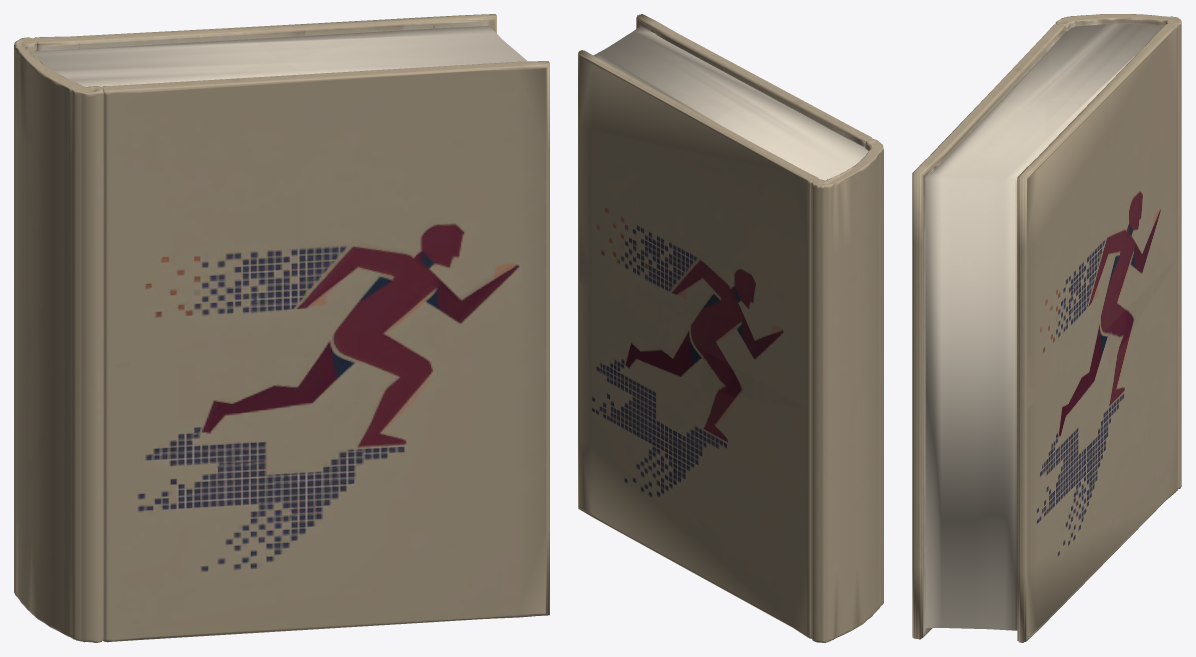
File: the-making-of-prince-of-persia.glb
3 renders of one model, left to right at view 1: azimuth 30°, elevation 25°; view 2: azimuth 150°, elevation 25°; view 3: azimuth 270°, elevation 25°, orthographic. The views are drawn at different scales.
Parts seen in each view (by area): view 1: The Making of Prince of Persia; view 2: The Making of Prince of Persia; view 3: The Making of Prince of Persia.
Boxes of the visible parts, box(x1,y1,x2,y2) form: The Making of Prince of Persia: box(14, 14, 549, 642); The Making of Prince of Persia: box(578, 14, 883, 642); The Making of Prince of Persia: box(912, 14, 1181, 642).
Bounding box in the file's own units: 0.7559 × 0.9941 × 0.5215.
Materials: 1 (1 with a texture image).
